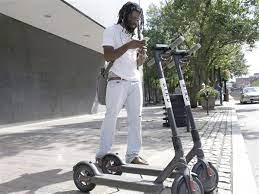scooter: (71, 42, 202, 194)
